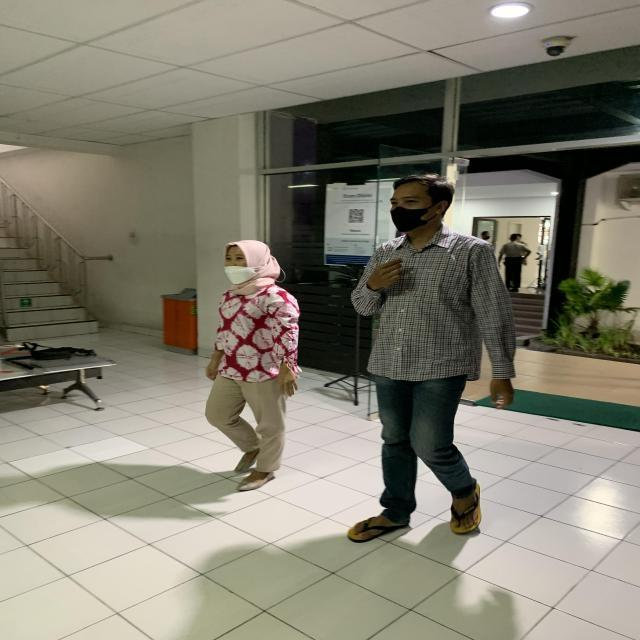hairnet: (214, 239, 284, 291)
